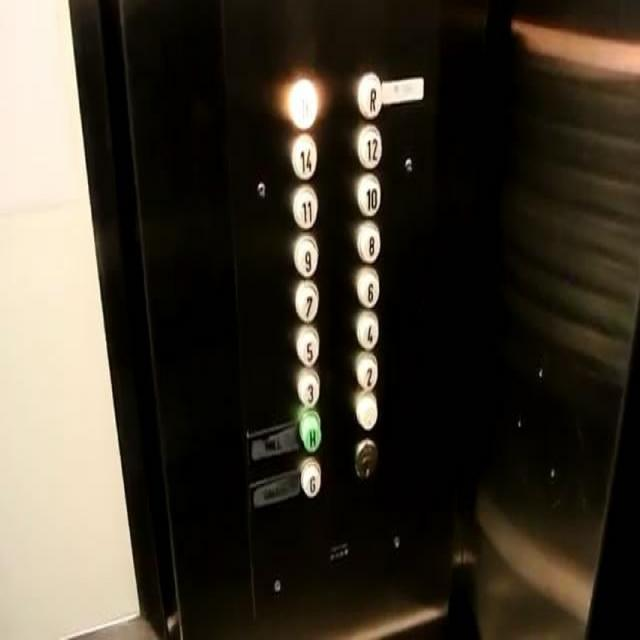10: (352, 170, 380, 218)
11: (291, 183, 320, 228)
12: (354, 123, 382, 169)
14: (288, 130, 317, 178)
2: (351, 354, 378, 394)
3: (296, 365, 324, 407)
4: (352, 305, 380, 352)
5: (294, 321, 321, 367)
6: (354, 263, 381, 308)
7: (292, 272, 319, 324)
8: (352, 216, 382, 264)
9: (290, 232, 320, 277)
G: (298, 456, 325, 500)
H: (296, 408, 324, 456)
R: (353, 68, 383, 120)
blur: (285, 70, 320, 130)
empty: (352, 388, 379, 429)
keyhole: (352, 435, 378, 485)
